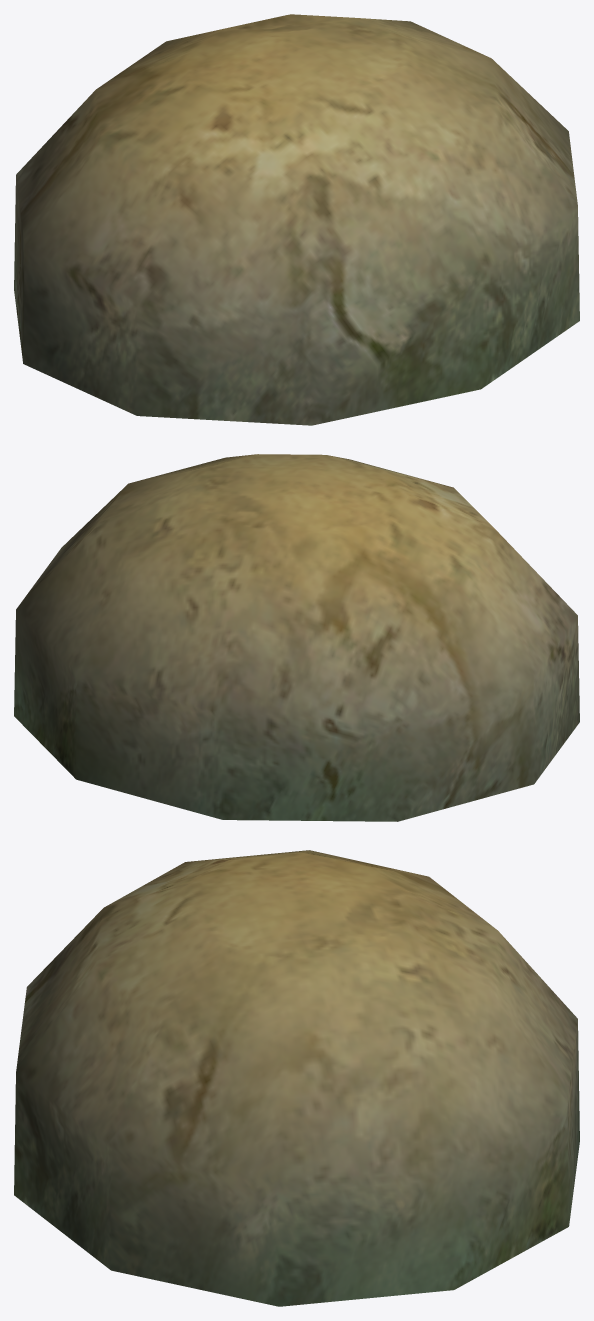
File: stone02.FBX
3 renders of one model, top to bottom at view 1: azimuth 30°, elevation 25°; view 2: azimuth 150°, elevation 25°; view 3: azimuth 270°, elevation 25°, orthographic. The views are drawn at different scales.
Visible parts, largest first — view 1: stone02; view 2: stone02; view 3: stone02.
Boxes of the visible parts, box(x1,y1,x2,y2) form: stone02: box(14, 14, 579, 425); stone02: box(14, 454, 579, 821); stone02: box(14, 850, 579, 1306).
Size of the model in its own units: 0.6557 by 0.3026 by 0.5656.
1 material, 1 textured.
